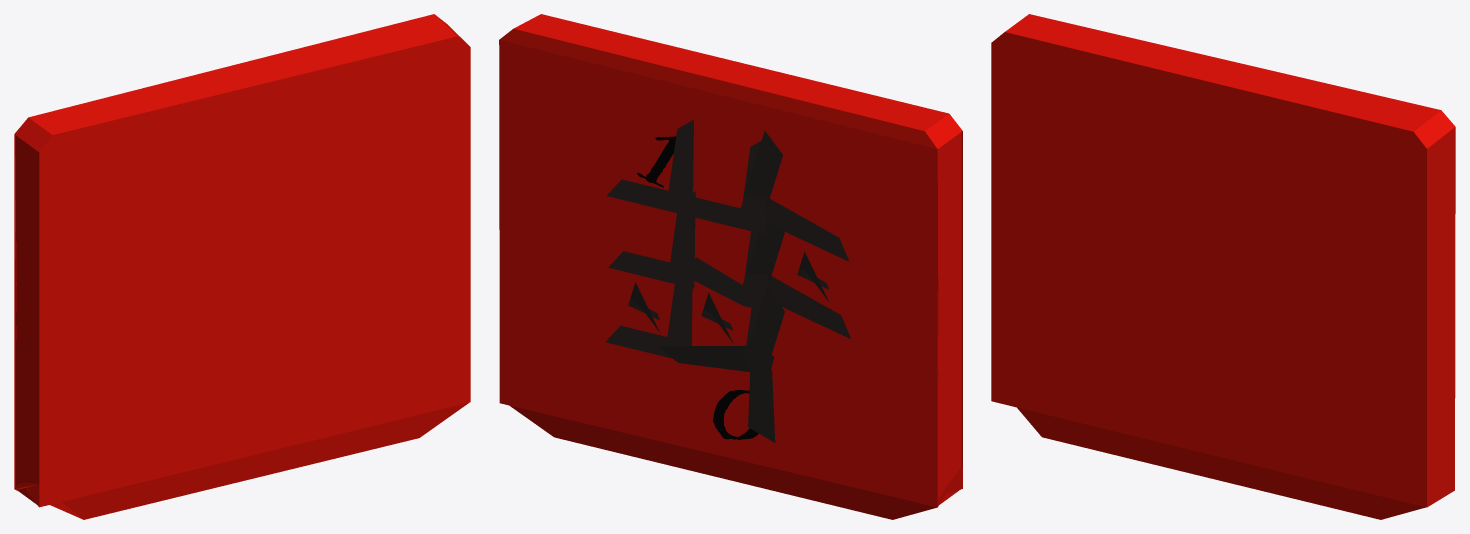
Rendered from cipher_code-updated.fbx.
3 views of the same model, side by side, from view 1: azimuth 30°, elevation 25°; view 2: azimuth 150°, elevation 25°; view 3: azimuth 330°, elevation 25° (orthographic).
Parts seen in each view (by area): view 1: Cipher; view 2: Cipher, Plane.011, Plane.002, Plane.004, Plane.006, Plane, Plane.008, Plane.001, Plane.005, Plane.013, Zero, One; view 3: Cipher.
Boxes of the visible parts, <box> form: Cipher: <box>14,14,470,519</box>; Cipher: <box>499,14,962,519</box>; Plane.011: <box>658,345,775,442</box>; Plane.002: <box>741,130,849,261</box>; Plane.004: <box>607,119,693,216</box>; Plane.006: <box>743,223,850,338</box>; Plane: <box>608,191,695,288</box>; Plane.008: <box>605,284,692,358</box>; Plane.001: <box>680,140,766,234</box>; Plane.005: <box>681,231,767,309</box>; Plane.013: <box>748,287,784,368</box>; Zero: <box>713,390,758,439</box>; One: <box>637,136,676,187</box>; Cipher: <box>991,14,1455,519</box>.
Size of the model in its own units: 402 by 353 by 50.64.
